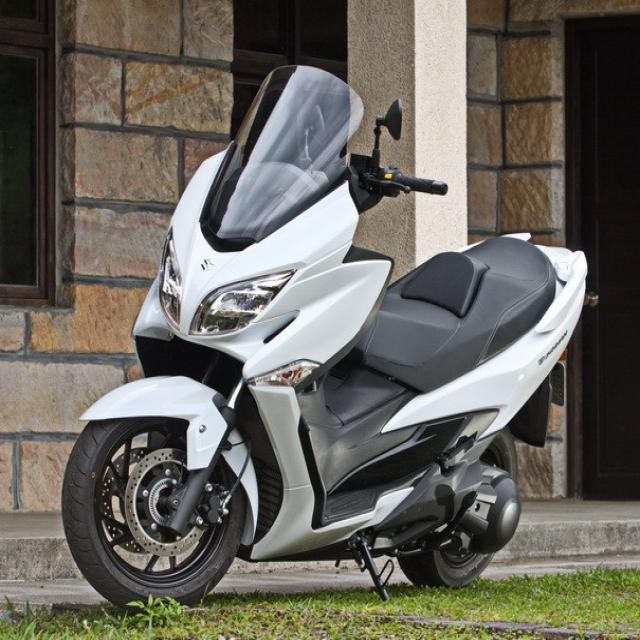Bike: (60, 65, 589, 610)
